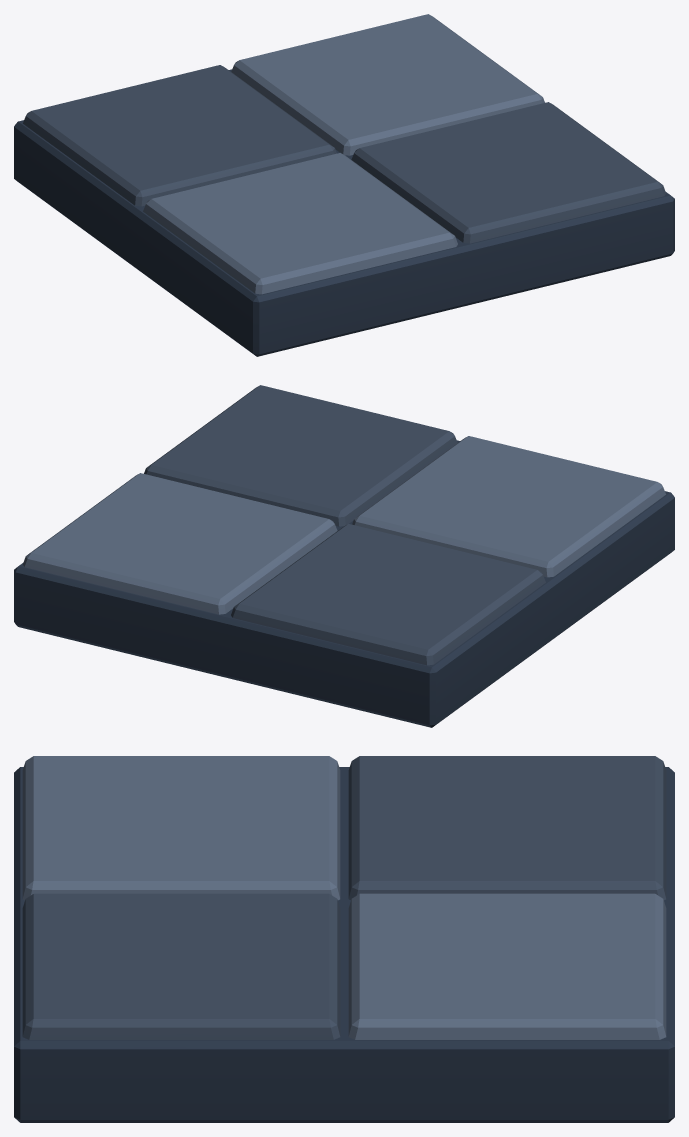
Rendered from stone.glb.
The picture shows the model from 3 angles, top to bottom: view 1: azimuth 30°, elevation 25°; view 2: azimuth 150°, elevation 25°; view 3: azimuth 270°, elevation 25°; orthographic projection. The views are drawn at different scales.
Visible parts, largest first — view 1: stone; view 2: stone; view 3: stone.
Boxes of the visible parts, bbox=[...] form: stone: bbox=[14, 14, 674, 356]; stone: bbox=[14, 385, 674, 727]; stone: bbox=[14, 756, 674, 1122].
Size of the model in its own units: 1.46 by 0.24 by 1.46.
